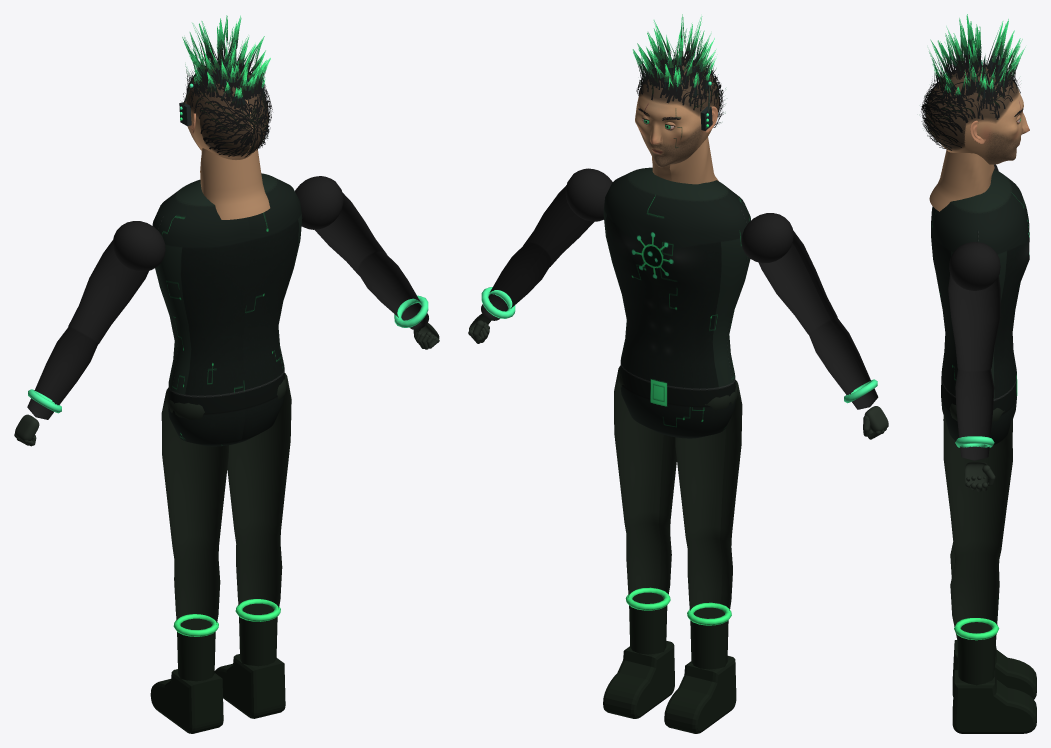
The model's file is virus.glb.
3 renders of one model, left to right at view 1: azimuth 30°, elevation 25°; view 2: azimuth 150°, elevation 25°; view 3: azimuth 270°, elevation 25°, orthographic.
Parts seen in each view (by area): view 1: Virus; view 2: Virus; view 3: Virus.
Boxes of the visible parts, x1,y1,x2,y2 form: Virus: [14, 15, 439, 733]; Virus: [468, 14, 888, 733]; Virus: [921, 14, 1036, 733].
Bounding box in the file's own units: 3.4 × 5.4 × 0.8523.
Materials: 5 (5 with a texture image).
